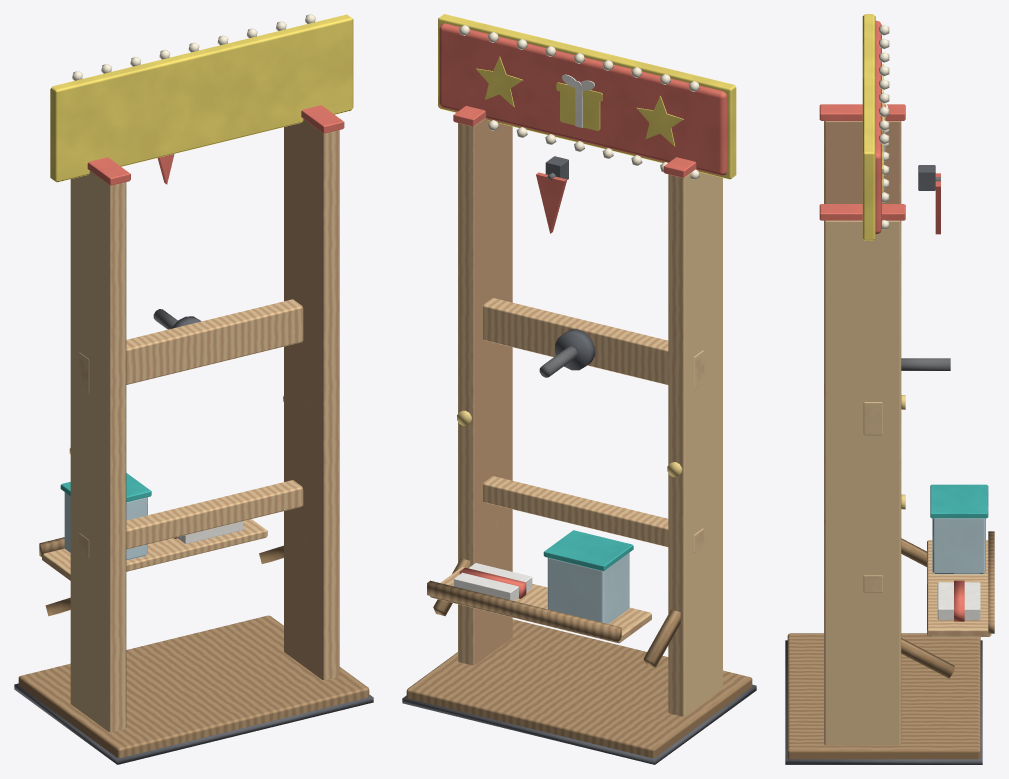
Rendered from Sorteio_WheelStand.fbx.
3 renders of one model, left to right at view 1: azimuth 30°, elevation 25°; view 2: azimuth 150°, elevation 25°; view 3: azimuth 270°, elevation 25°, orthographic. The views are drawn at different scales.
Visible parts, largest first — view 1: Sorteio_WheelStand; view 2: Sorteio_WheelStand; view 3: Sorteio_WheelStand.
Part boxes in pixels (<box>): Sorteio_WheelStand: <box>14,14,373,764</box>; Sorteio_WheelStand: <box>402,14,756,764</box>; Sorteio_WheelStand: <box>785,14,994,764</box>.
Bounding box in the file's own units: 1.54 × 3.22 × 0.975.
Materials: 1 (1 with a texture image).
